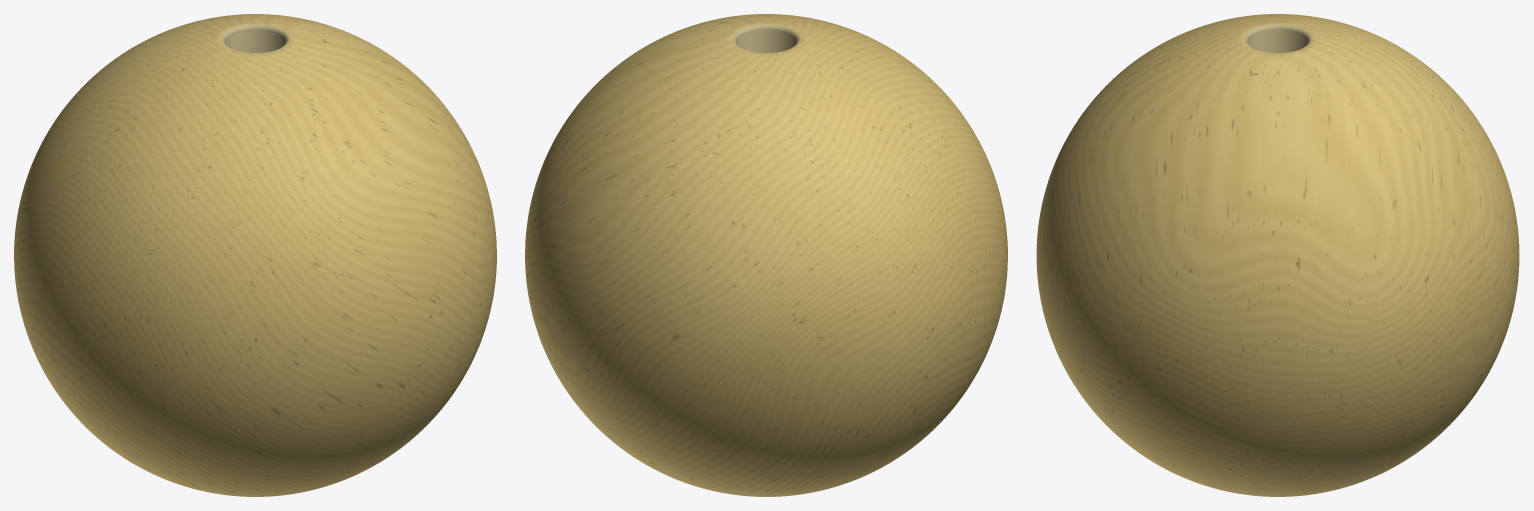
File: boxwood-8mm.glb
3 views of the same model, side by side, from view 1: azimuth 30°, elevation 25°; view 2: azimuth 150°, elevation 25°; view 3: azimuth 270°, elevation 25° (orthographic).
Parts seen in each view (by area): view 1: boxwood; view 2: boxwood; view 3: boxwood.
Boxes of the visible parts, left/top/right/bottom form: boxwood: left=14, top=14, right=496, bottom=496; boxwood: left=525, top=14, right=1007, bottom=496; boxwood: left=1036, top=14, right=1519, bottom=496.
Size of the model in its own units: 0.008 by 0.00792 by 0.008.
2 materials, 1 textured.
